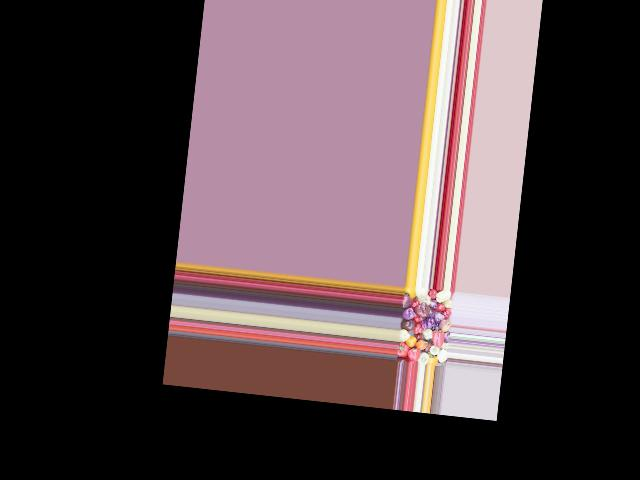bell_pepper: (417, 350, 428, 364)
